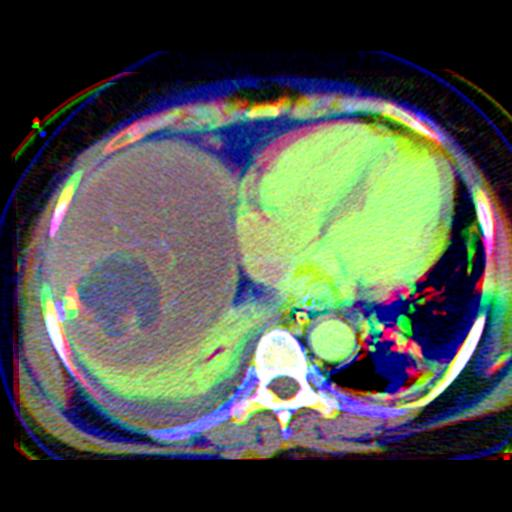Abscess: (77, 252, 160, 337)
